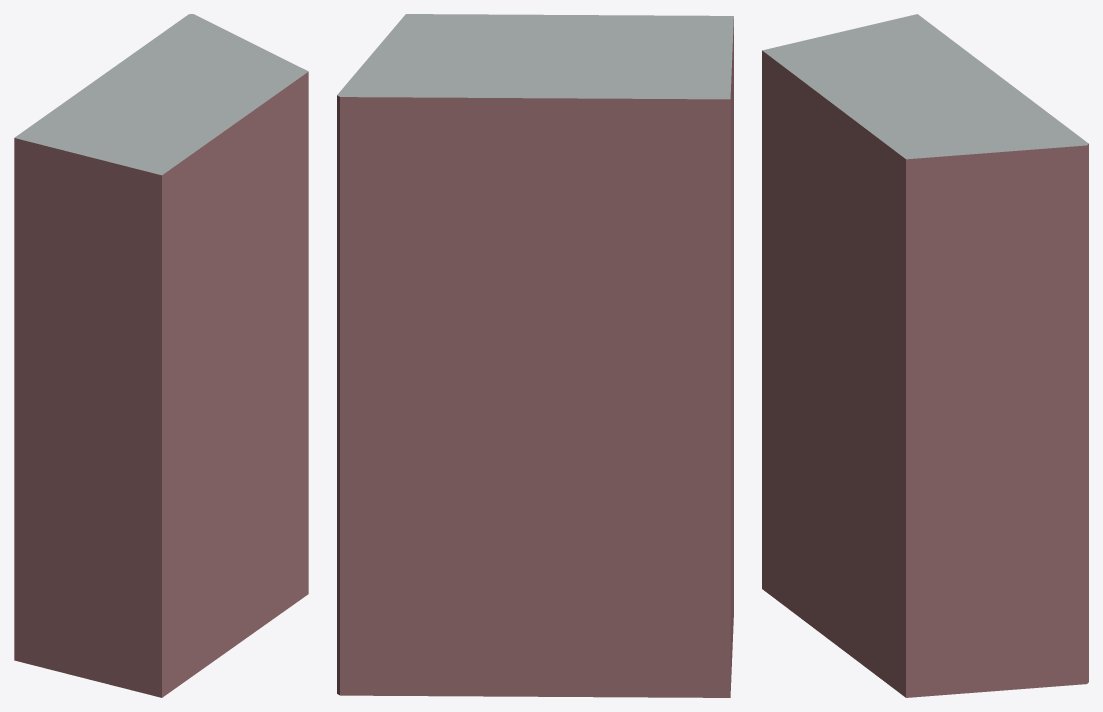
File: nyc-1015254-0.glb
3 renders of one model, left to right at view 1: azimuth 30°, elevation 25°; view 2: azimuth 150°, elevation 25°; view 3: azimuth 270°, elevation 25°, orthographic. The views are drawn at different scales.
Parts seen in each view (by area): view 1: nyc-1015254-0; view 2: nyc-1015254-0; view 3: nyc-1015254-0.
Boxes of the visible parts, x1,y1,x2,y2 form: nyc-1015254-0: (14, 14, 308, 697); nyc-1015254-0: (337, 14, 733, 697); nyc-1015254-0: (762, 14, 1088, 697).
Size of the model in its own units: 57.63 by 99.58 by 54.74.
